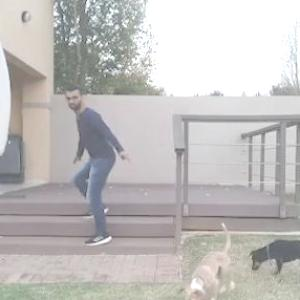land: (60, 82, 132, 243)
